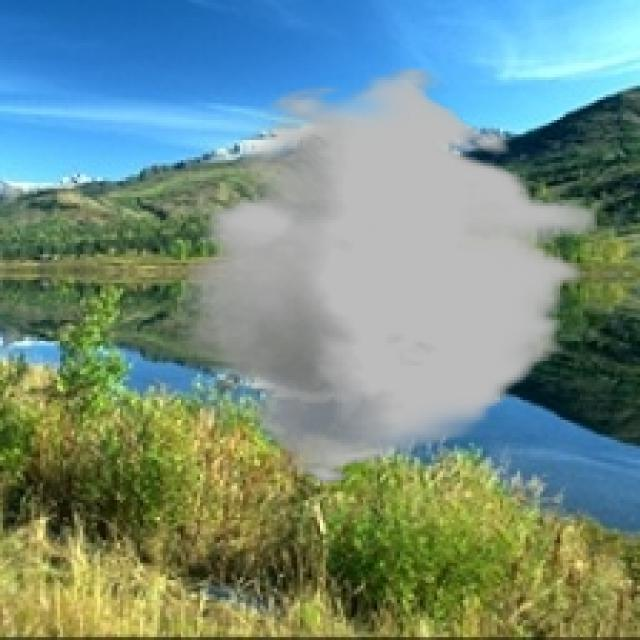smoke: (177, 66, 597, 486)
